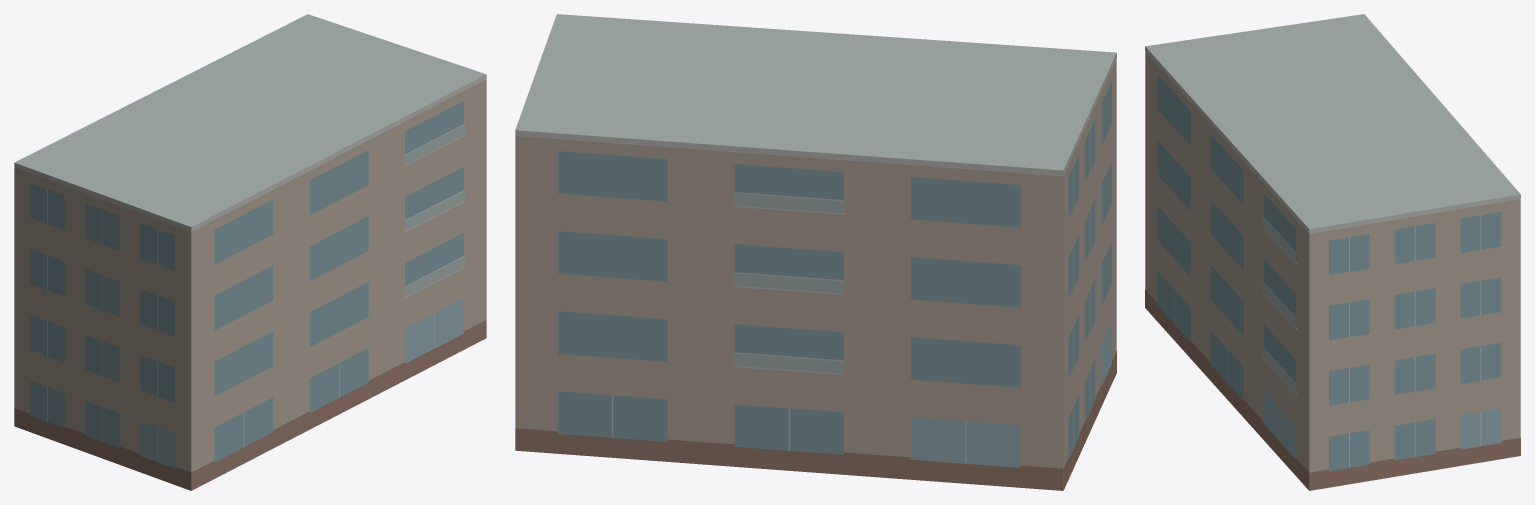
Rendered from survey-upis-32772001.glb.
3 renders of one model, left to right at view 1: azimuth 30°, elevation 25°; view 2: azimuth 150°, elevation 25°; view 3: azimuth 270°, elevation 25°, orthographic. The views are drawn at different scales.
Parts seen in each view (by area): view 1: survey-upis-32772001.tmp; view 2: survey-upis-32772001.tmp; view 3: survey-upis-32772001.tmp.
Part boxes in pixels (bbox=[...]): survey-upis-32772001.tmp: bbox=[14, 14, 486, 490]; survey-upis-32772001.tmp: bbox=[515, 14, 1116, 490]; survey-upis-32772001.tmp: bbox=[1145, 14, 1520, 490].
Size of the model in its own units: 23.43 by 13.27 by 17.28.
